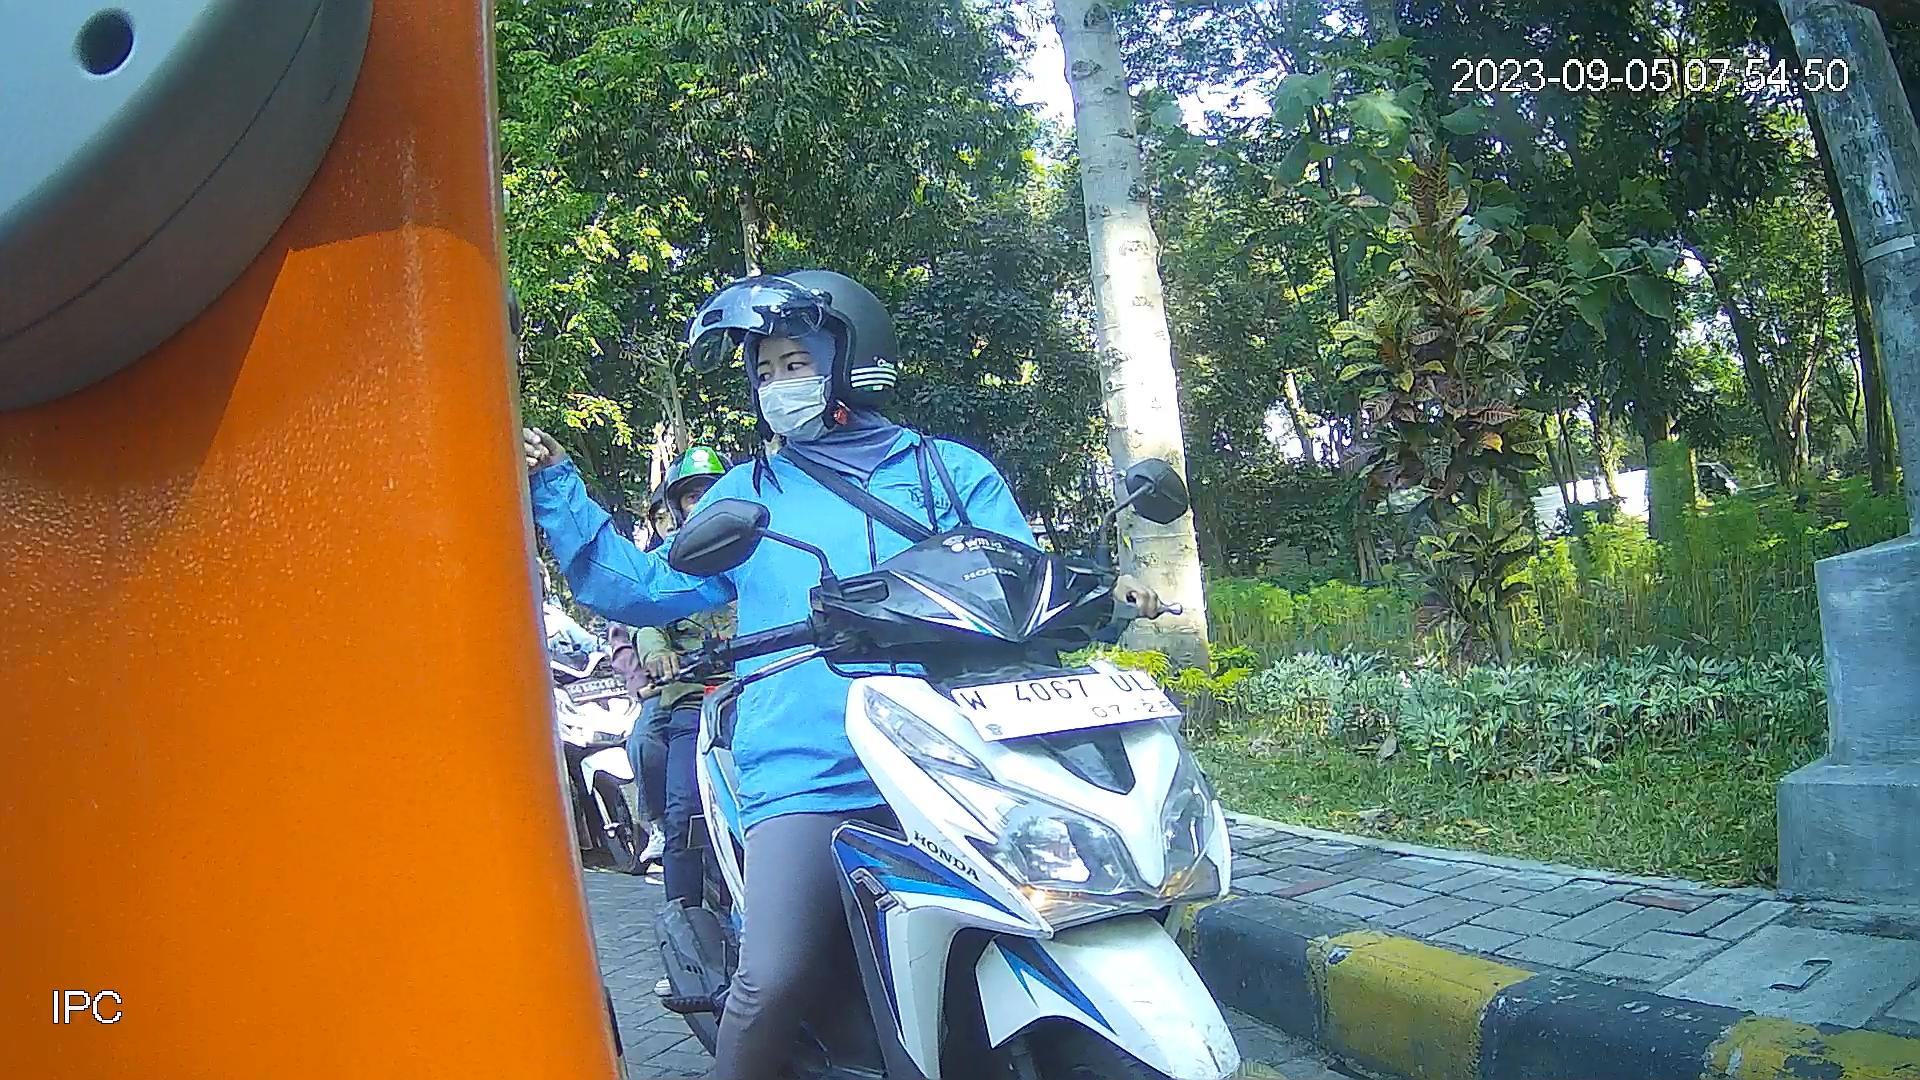plat: (944, 669, 1188, 744)
